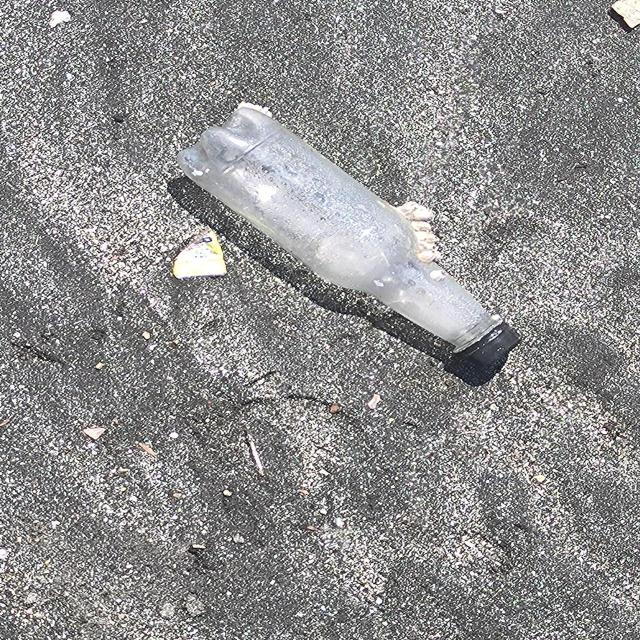plastic_waste: (175, 107, 525, 368)
